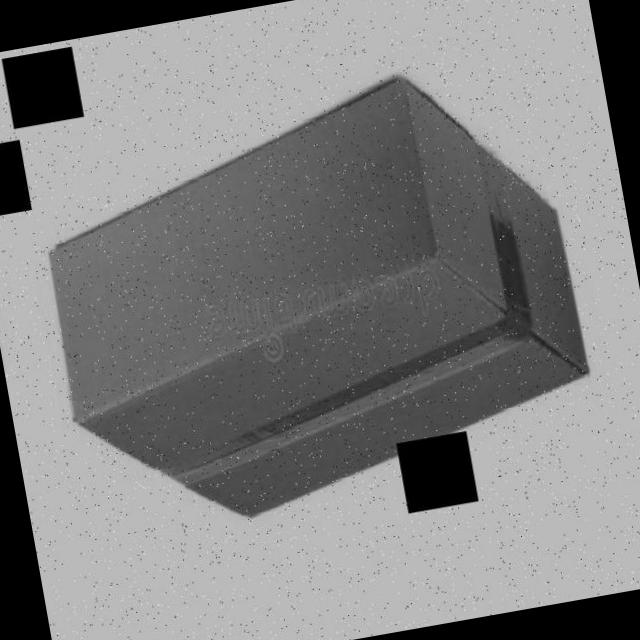box: (0, 40, 617, 569)
